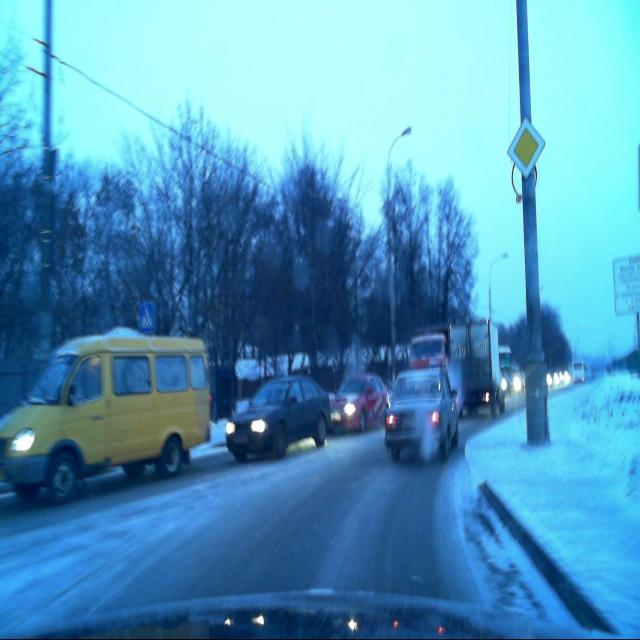object: (616, 257, 640, 318), (139, 304, 154, 336)
road sign: (508, 116, 546, 178)
